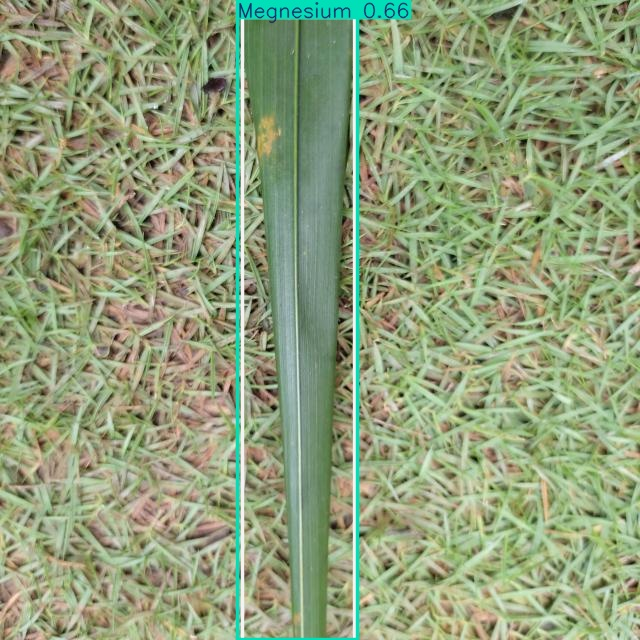Kalium: (243, 0, 355, 640)
Megnesium: (237, 0, 358, 639)
